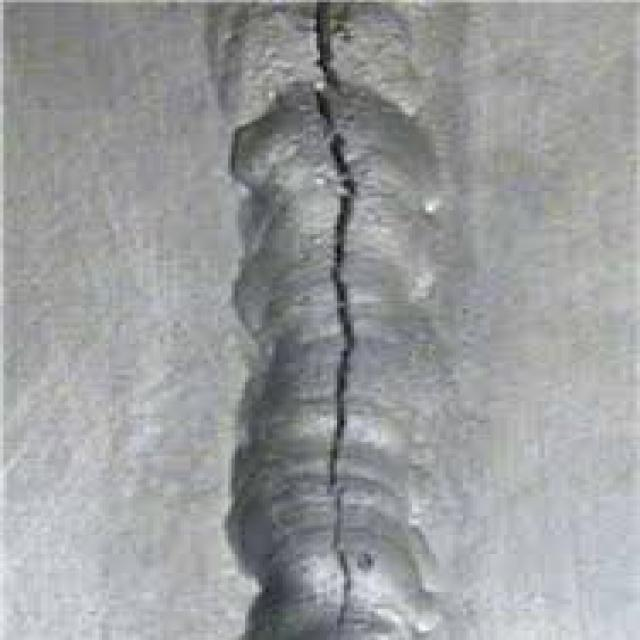Defect: (194, 0, 432, 635)
